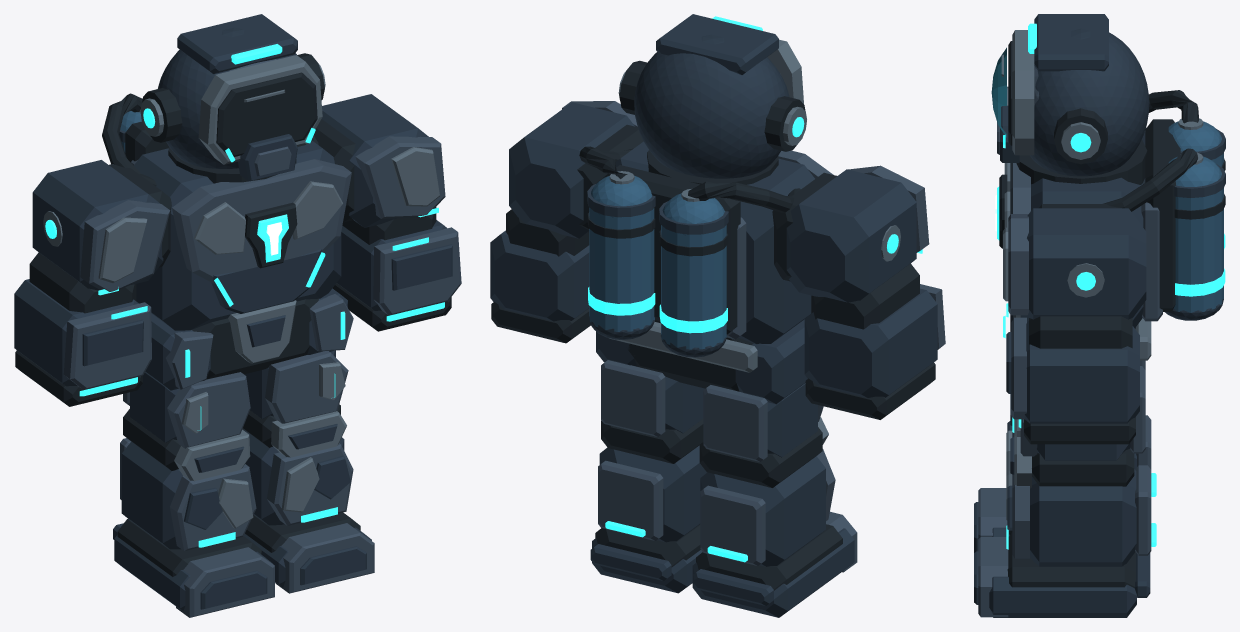
The model's file is dive_suit_2.gltf.
The picture shows the model from 3 angles, left to right: view 1: azimuth 30°, elevation 25°; view 2: azimuth 150°, elevation 25°; view 3: azimuth 270°, elevation 25°; orthographic projection.
Visible parts, largest first — view 1: shell, armor, rubber, edge, glow; view 2: shell, rubber, armor, tank, edge, glow; view 3: shell, rubber, armor, edge, tank, glow, glass.
Boxes of the visible parts, left/top/right/bottom form: shell: left=14, top=14, right=452, bottom=610; armor: left=63, top=59, right=461, bottom=617; rubber: left=15, top=53, right=451, bottom=576; edge: left=43, top=55, right=439, bottom=528; glow: left=45, top=44, right=444, bottom=547; shell: left=490, top=14, right=937, bottom=617; rubber: left=491, top=60, right=935, bottom=590; armor: left=562, top=73, right=945, bottom=572; tank: left=589, top=175, right=726, bottom=349; edge: left=609, top=39, right=900, bottom=444; glow: left=588, top=16, right=922, bottom=562; shell: left=974, top=14, right=1225, bottom=617; rubber: left=999, top=41, right=1225, bottom=587; armor: left=978, top=66, right=1162, bottom=617; edge: left=1001, top=30, right=1203, bottom=520; tank: left=1168, top=121, right=1223, bottom=312; glow: left=997, top=23, right=1225, bottom=549; glass: left=991, top=47, right=1006, bottom=137.
Bounding box in the file's own units: 4.44 × 5.76 × 2.43.
